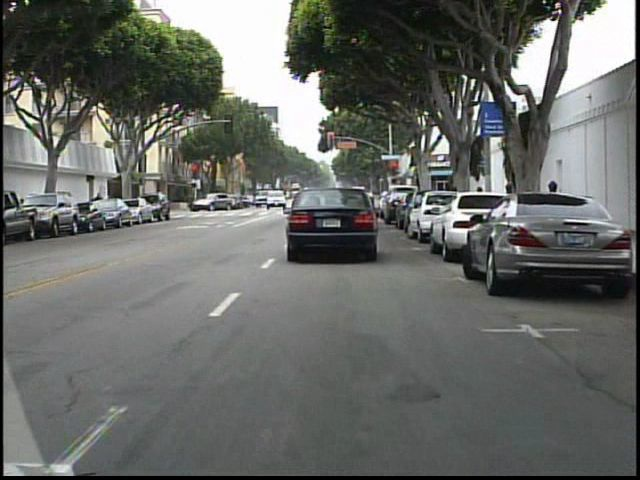person: (91, 188, 108, 224), (187, 190, 201, 215)
